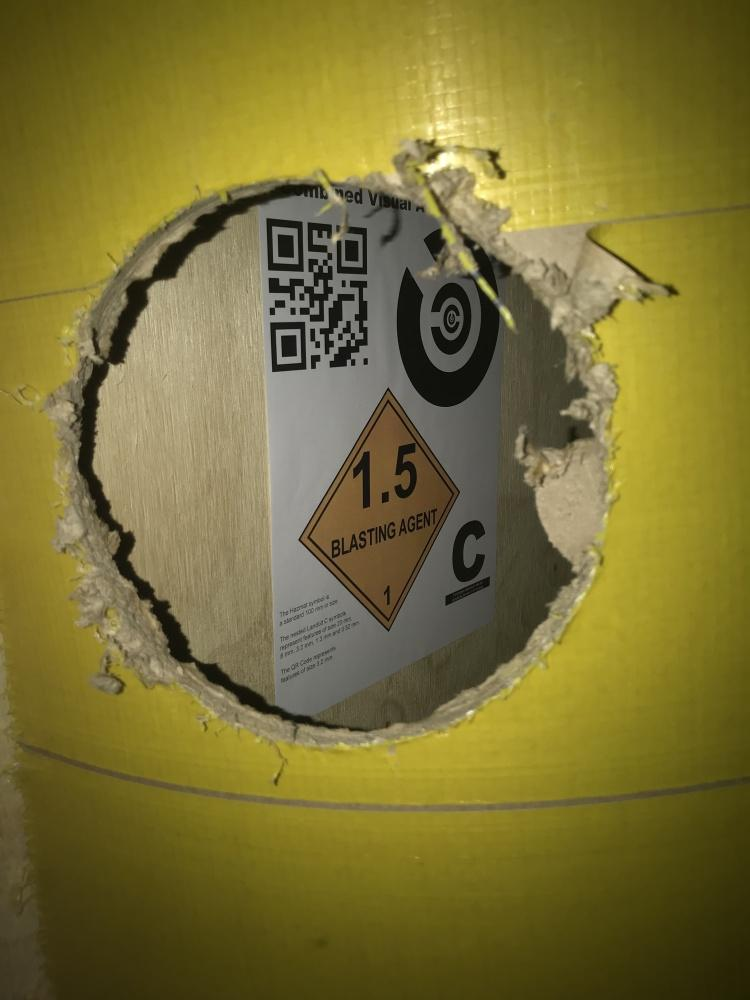explosive: (299, 389, 463, 643)
